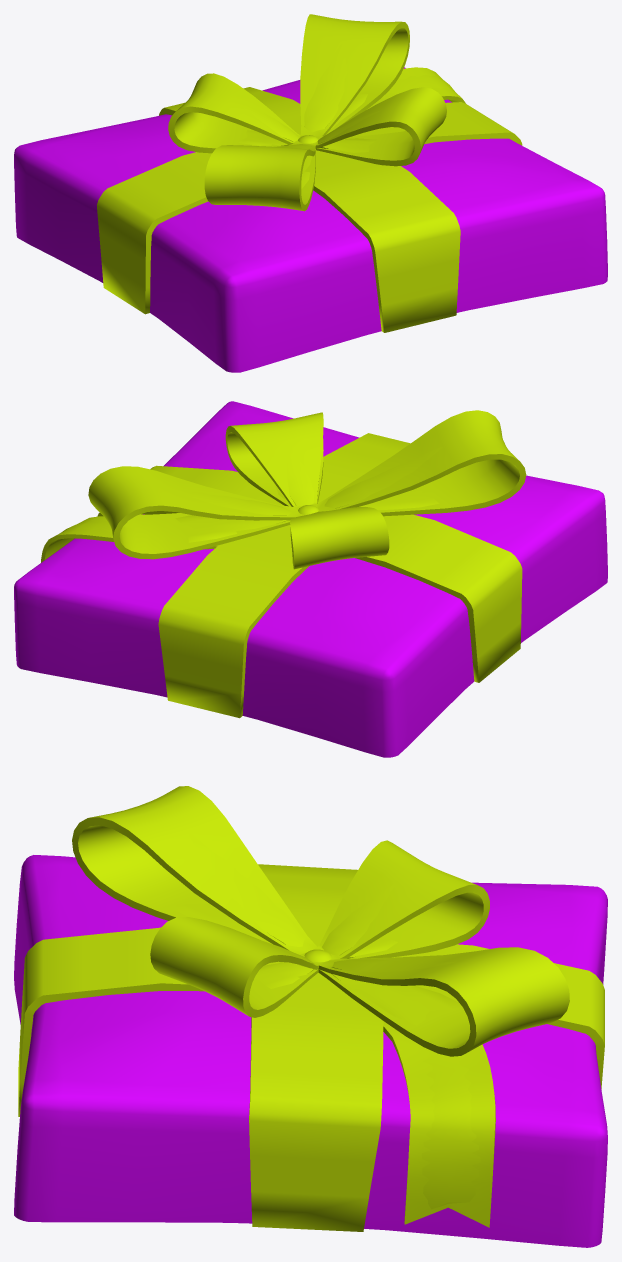
File: top.fbx
3 renders of one model, top to bottom at view 1: azimuth 30°, elevation 25°; view 2: azimuth 150°, elevation 25°; view 3: azimuth 270°, elevation 25°, orthographic. The views are drawn at different scales.
Visible parts, largest first — view 1: Gift.001; view 2: Gift.001; view 3: Gift.001.
Boxes of the visible parts, left/top/right/bottom form: Gift.001: left=14, top=14, right=607, bottom=372; Gift.001: left=14, top=401, right=607, bottom=757; Gift.001: left=14, top=786, right=607, bottom=1247.
Bounding box in the file's own units: 53.69 × 24.7 × 52.37.
